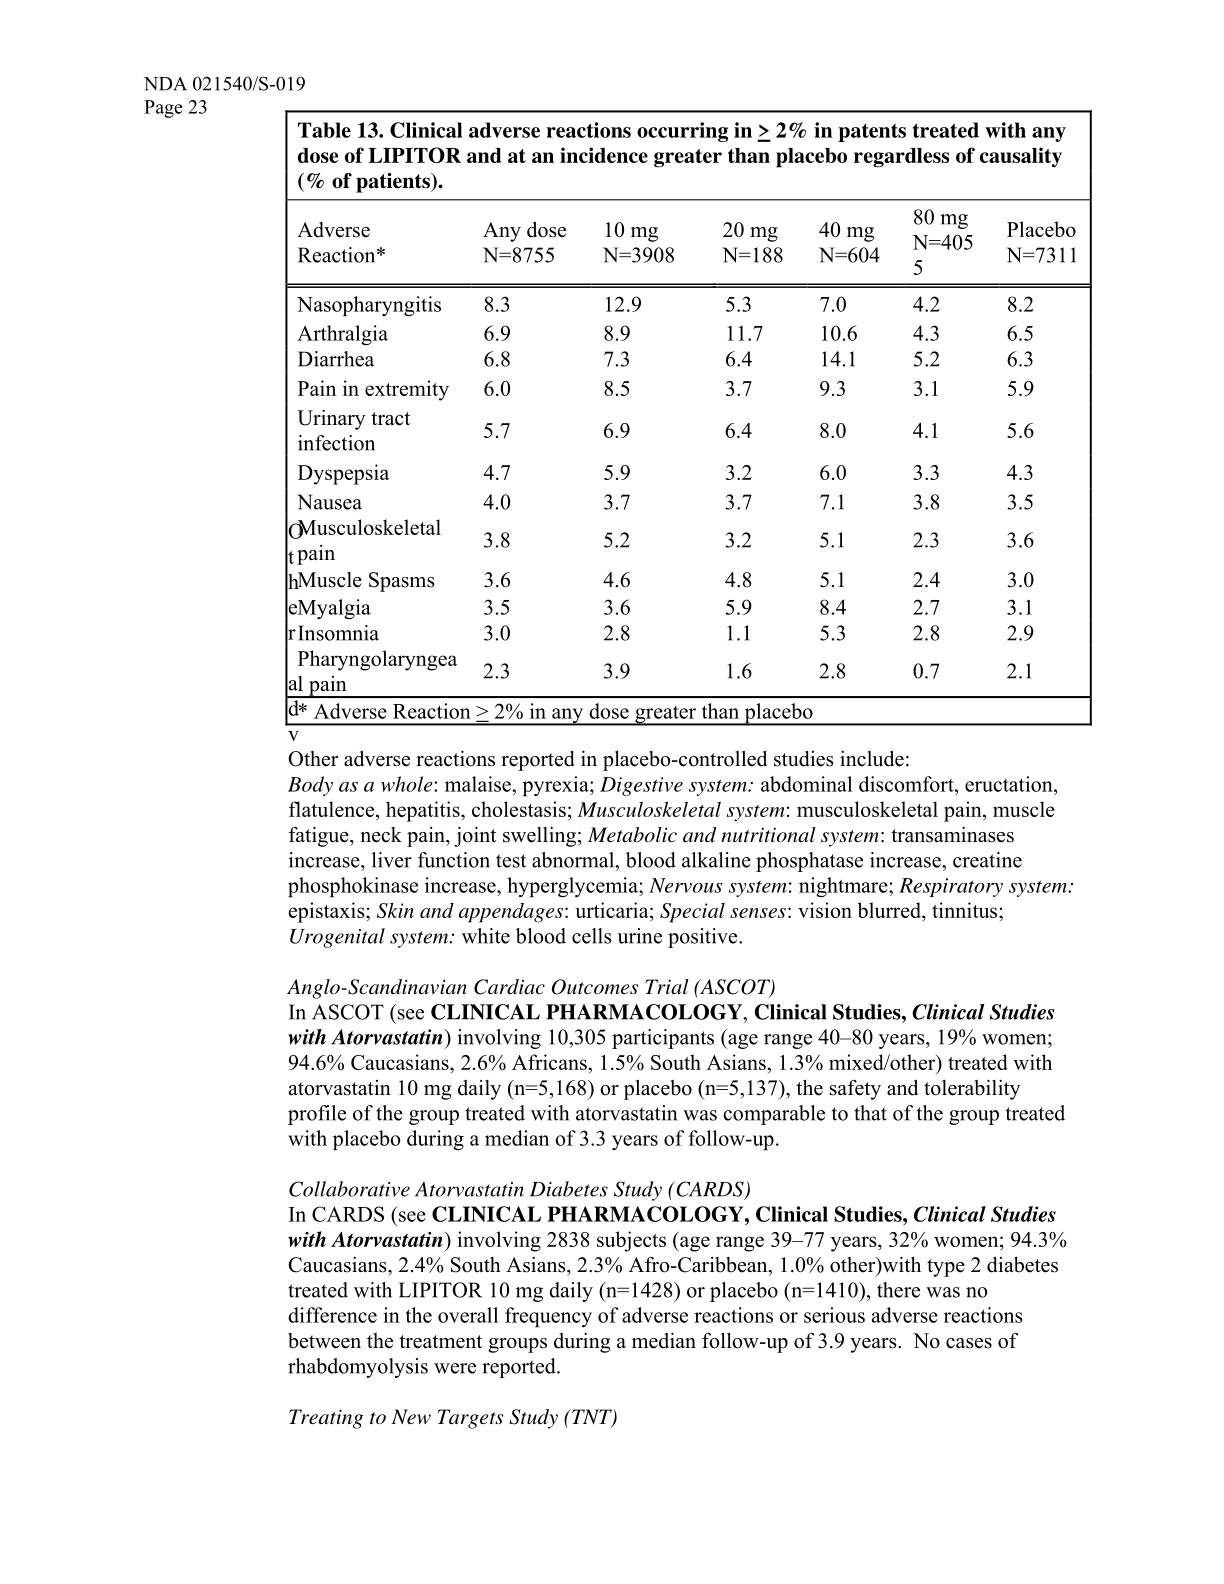partial_lined_merged_cells: (284, 109, 1093, 726)
